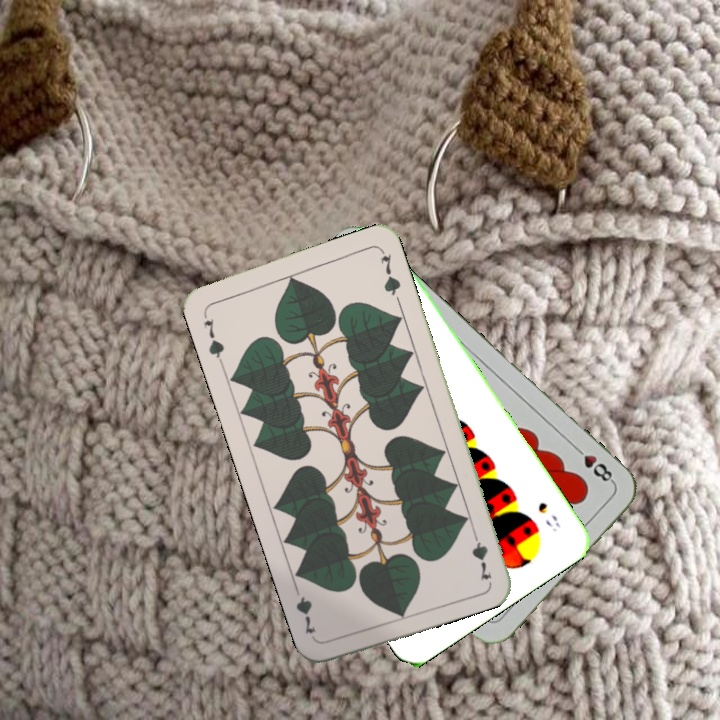G7: (467, 524, 495, 584), (199, 308, 227, 366)
H8: (569, 442, 617, 486)
S8: (533, 498, 563, 535)
